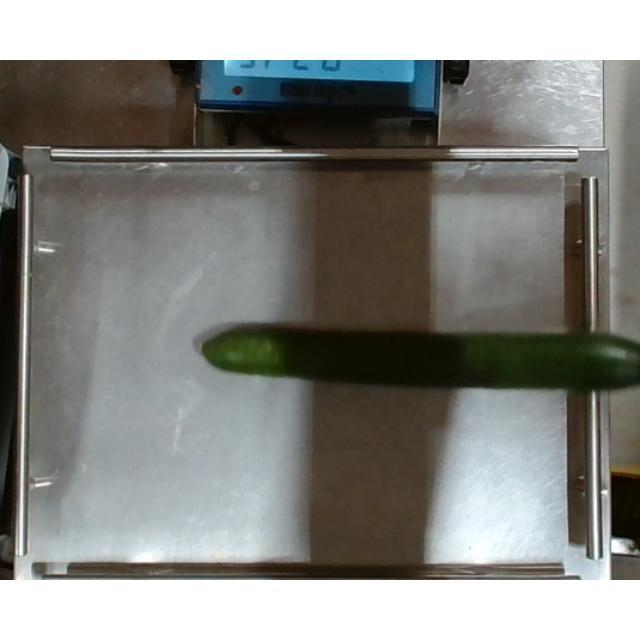cucumber: (198, 318, 640, 392)
